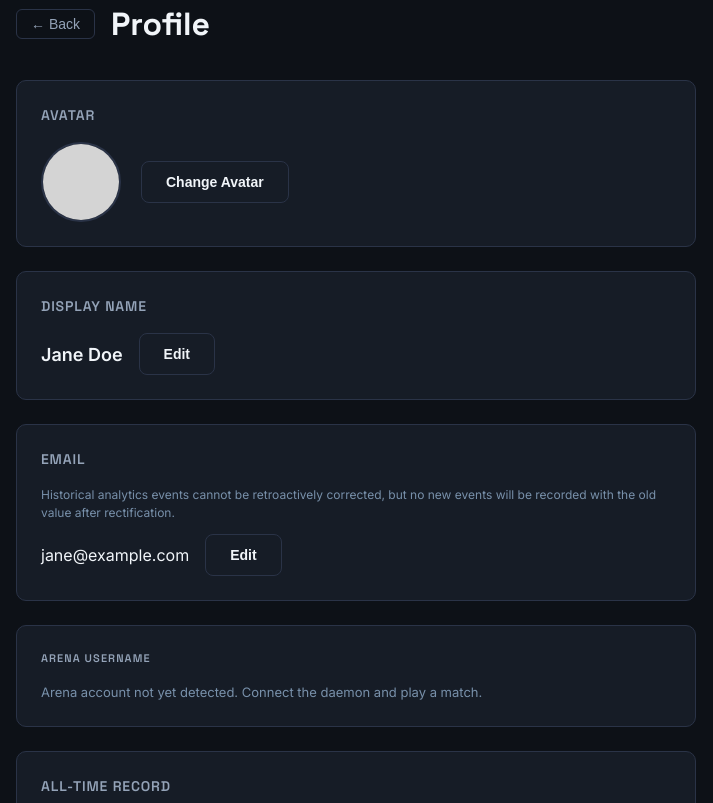
it: Profile — email entry step (pending) › advances to verifying step after successful createEmailAddress + prepareVerification
Click the button with test id "profile-edit-email-button": click(243, 555) top-left (205, 534), bottom-right (282, 576)
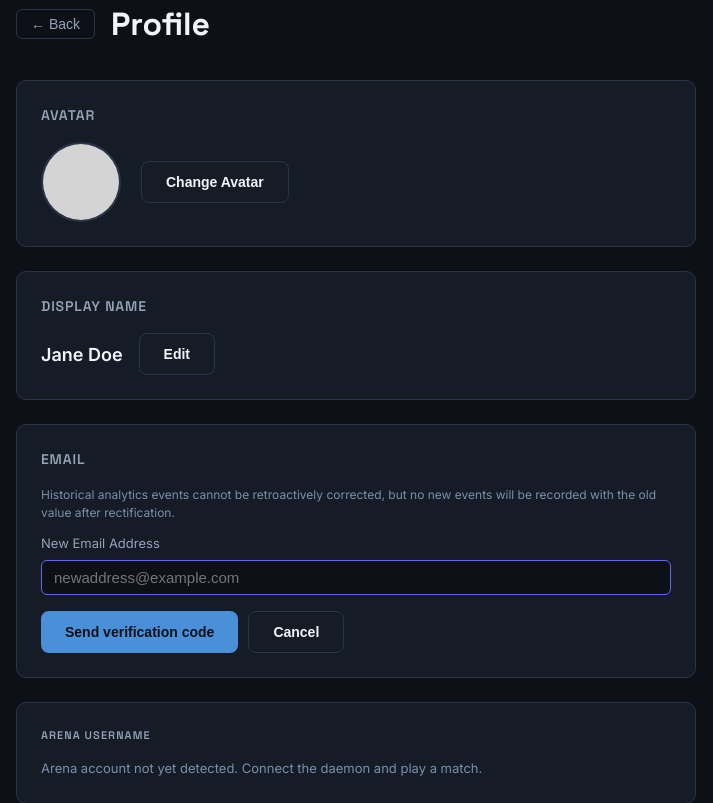
In the field with test id "profile-email-input": (356, 577) top-left (41, 560), bottom-right (671, 594), type "newemail@example.com"
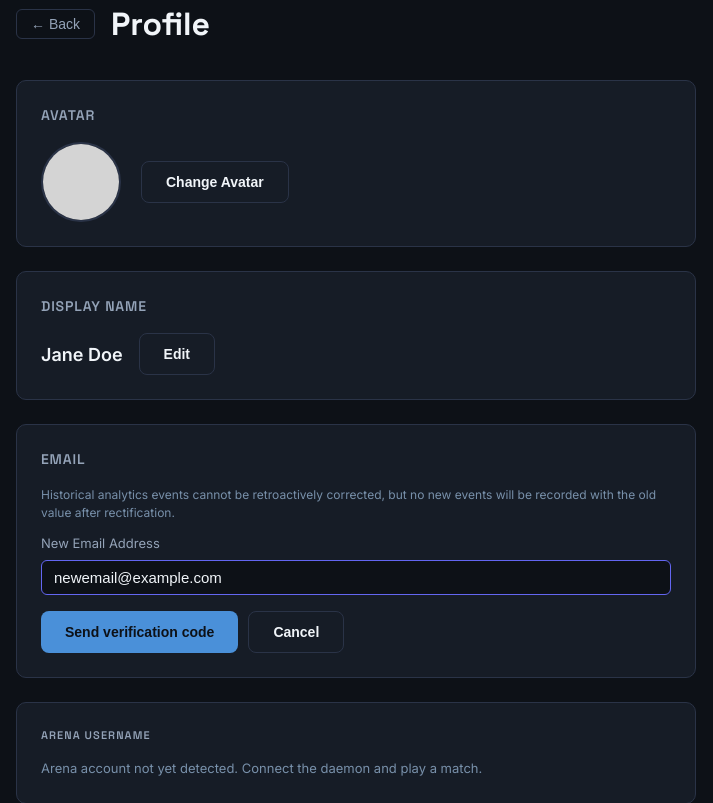
Click the button with test id "profile-email-submit-button": click(140, 632) top-left (41, 610), bottom-right (238, 652)
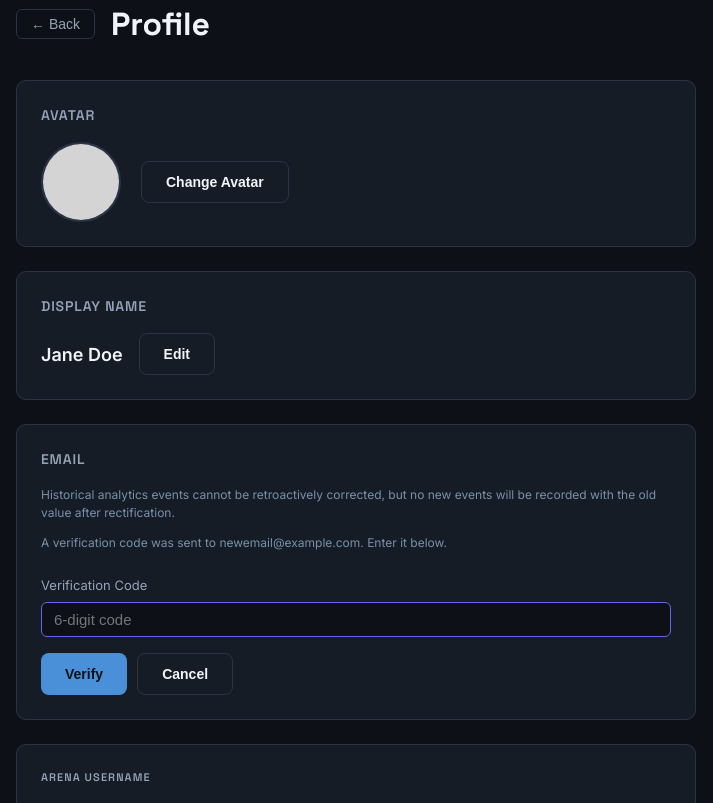
Expected: the field with test id "profile-email-code-input" is shown, top-left (41, 602), bottom-right (671, 636)
